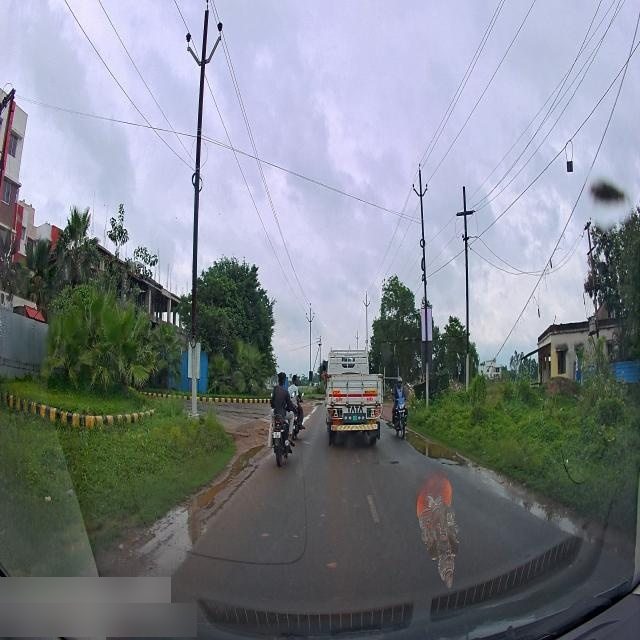pothole: (513, 494, 579, 530), (168, 490, 219, 524), (410, 429, 461, 462), (230, 442, 262, 474)
